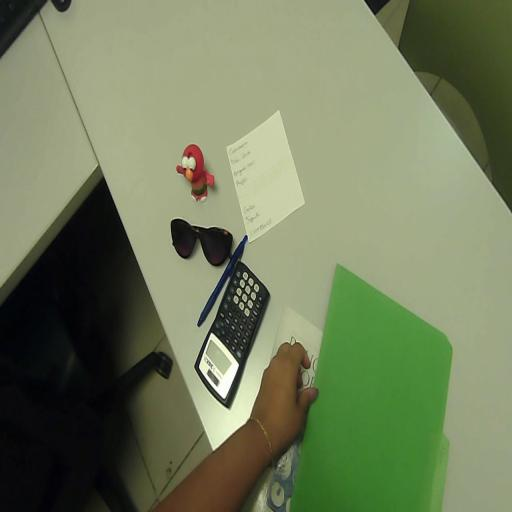pen: (197, 236, 247, 326)
